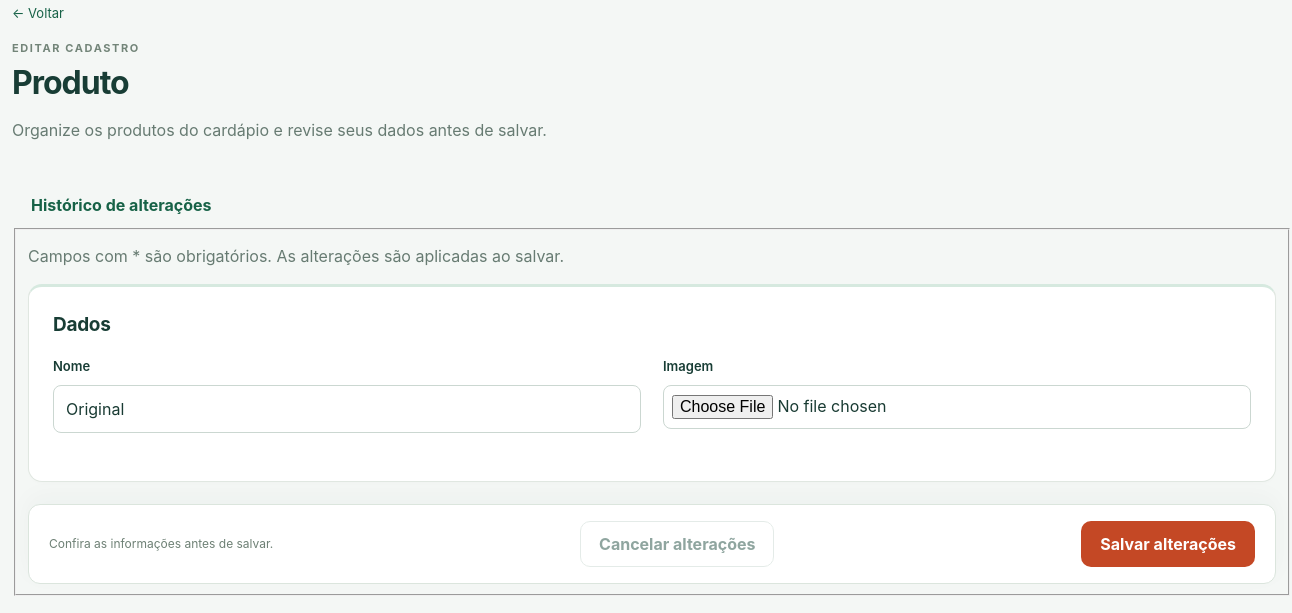
Test: cancel restores loaded values and clears the unsaved navigation guard
Replace the text in the field labelled "Nome" with "Editado" at (347, 409), box [53,385,641,433]
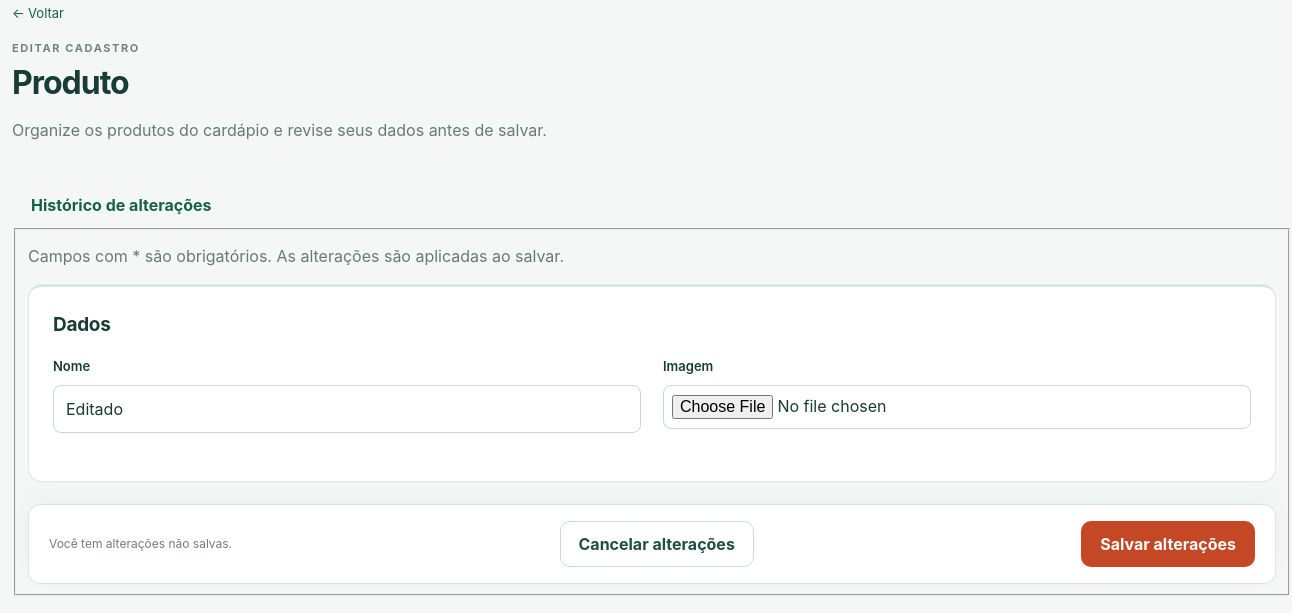
Click the button "Cancelar alterações" at (657, 544), box [560,521,754,567]
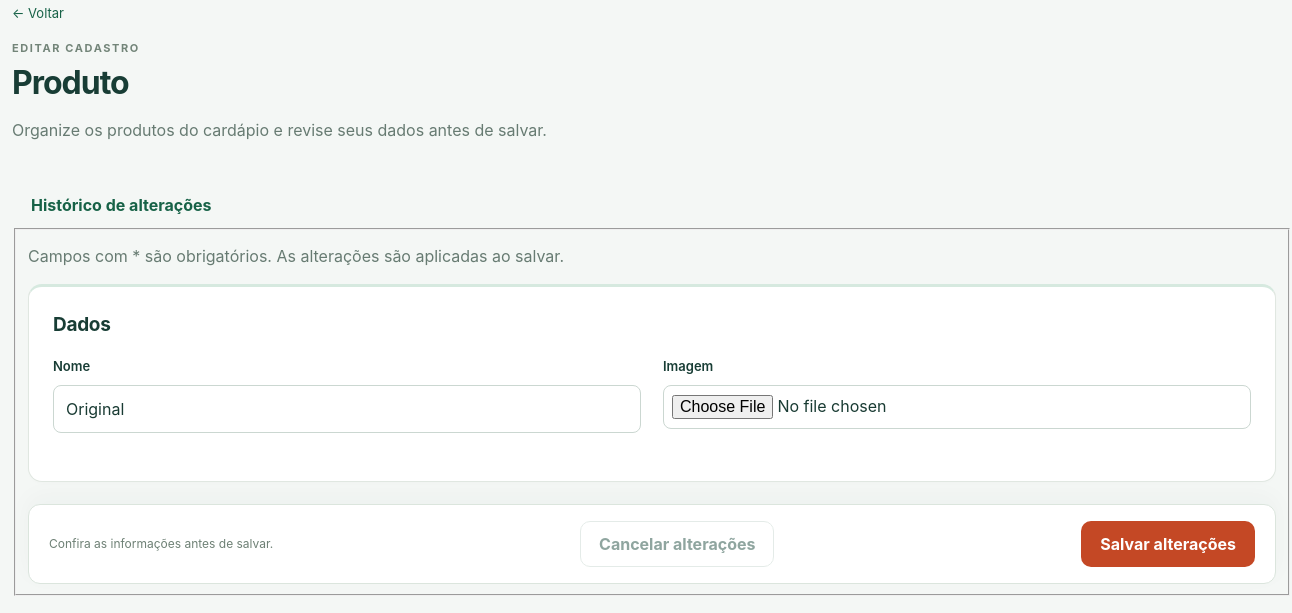
Expected: the field labelled "Nome" holds "Original", [53,385,641,433]
Click the link "← Voltar" at (38, 14), box [12,4,64,24]
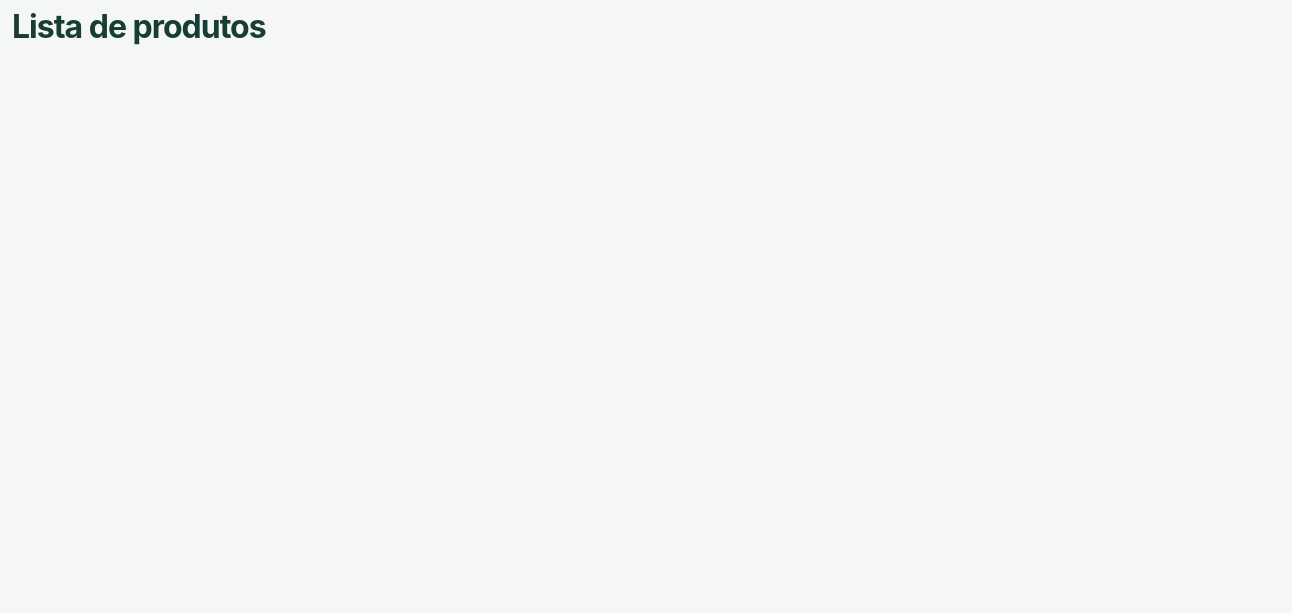
Expected: the heading "Lista de produtos" is shown, [12,7,266,46]
